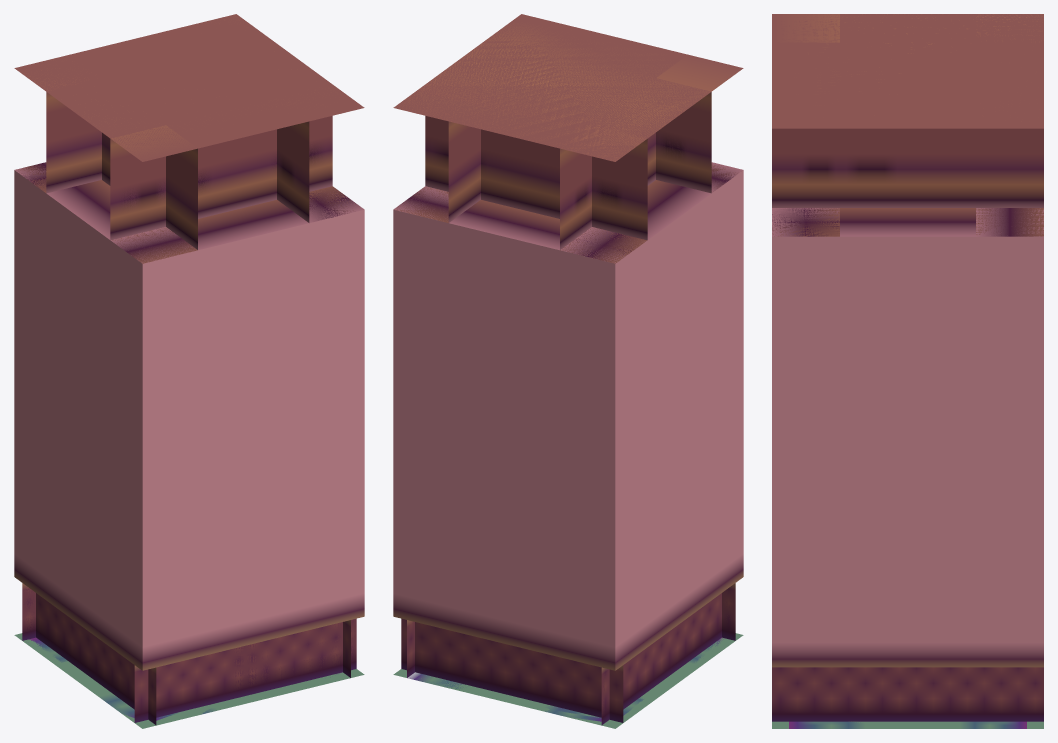
File: Interior.fbx
3 views of the same model, side by side, from view 1: azimuth 30°, elevation 25°; view 2: azimuth 150°, elevation 25°; view 3: azimuth 270°, elevation 25° (orthographic). The views are drawn at different scales.
Parts seen in each view (by area): view 1: CornerWall, WallInnerL, WallInnerR, DoubleCorner, InnerCorner1, ParalelWall, InnerCorner2, InnerCorner4, UShapedWall, InnerCorner3, BaseTile, InnerDiagonal (+2 smaller); view 2: ParalelWall, NormalWall, UShapedWall, InnerCorner1, DoubleCorner, CornerWall, BaseTile, InnerCorner2, InnerCorner3, WallInnerR, InnerCorner4, WallInnerL; view 3: UShapedWall, InnerCorner1, InnerCorner3, InnerCorner2, InnerCorner4, InnerDiagonal, WallInnerR, DoubleCorner, BaseTile, NormalWall, ParalelWall, WallInnerL (+1 smaller).
Part boxes in pixels (x1=…): CornerWall: x1=50, y1=16, x2=364, y2=709; WallInnerL: x1=14, y1=37, x2=364, y2=722; WallInnerR: x1=16, y1=15, x2=364, y2=697; DoubleCorner: x1=14, y1=37, x2=358, y2=693; InnerCorner1: x1=14, y1=14, x2=364, y2=724; ParalelWall: x1=16, y1=44, x2=345, y2=650; InnerCorner2: x1=18, y1=15, x2=363, y2=721; InnerCorner4: x1=33, y1=42, x2=353, y2=720; UShapedWall: x1=15, y1=40, x2=355, y2=665; InnerCorner3: x1=29, y1=34, x2=362, y2=260; BaseTile: x1=16, y1=15, x2=363, y2=714; InnerDiagonal: x1=99, y1=27, x2=362, y2=709; ParalelWall: x1=393, y1=43, x2=742, y2=694; NormalWall: x1=393, y1=35, x2=743, y2=722; UShapedWall: x1=407, y1=71, x2=742, y2=689; InnerCorner1: x1=393, y1=15, x2=735, y2=727; DoubleCorner: x1=407, y1=70, x2=743, y2=718; CornerWall: x1=397, y1=45, x2=743, y2=684; BaseTile: x1=395, y1=19, x2=743, y2=727; InnerCorner2: x1=393, y1=14, x2=719, y2=724; InnerCorner3: x1=401, y1=14, x2=737, y2=719; WallInnerR: x1=395, y1=64, x2=735, y2=728; InnerCorner4: x1=398, y1=27, x2=726, y2=721; WallInnerL: x1=394, y1=47, x2=706, y2=724; UShapedWall: x1=772, y1=42, x2=1043, y2=721; InnerCorner1: x1=772, y1=14, x2=1043, y2=728; InnerCorner3: x1=772, y1=14, x2=1043, y2=726; InnerCorner2: x1=772, y1=14, x2=1043, y2=728; InnerCorner4: x1=772, y1=14, x2=1043, y2=728; InnerDiagonal: x1=840, y1=42, x2=1043, y2=727; WallInnerR: x1=782, y1=16, x2=1043, y2=721; DoubleCorner: x1=772, y1=42, x2=1043, y2=727; BaseTile: x1=772, y1=14, x2=1043, y2=728; NormalWall: x1=772, y1=14, x2=1021, y2=234; ParalelWall: x1=772, y1=36, x2=1043, y2=728; WallInnerL: x1=772, y1=14, x2=1043, y2=728.
Size of the model in its own units: 100 by 100 by 244.
